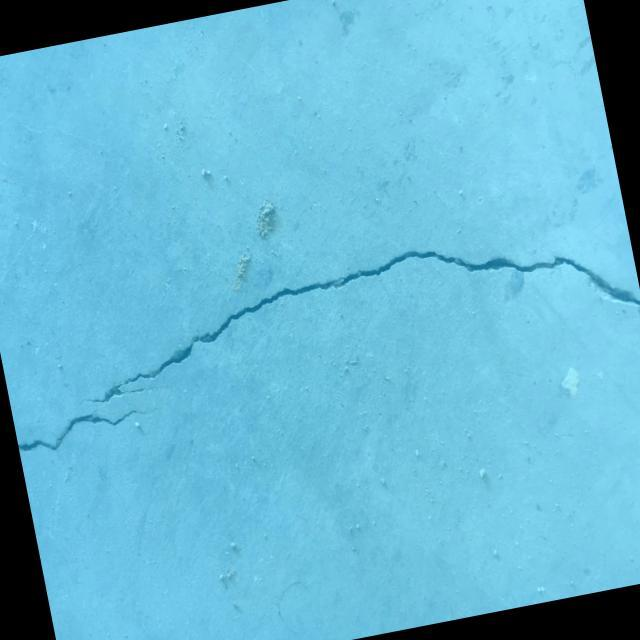crack: (66, 207, 640, 428), (15, 403, 148, 458)
